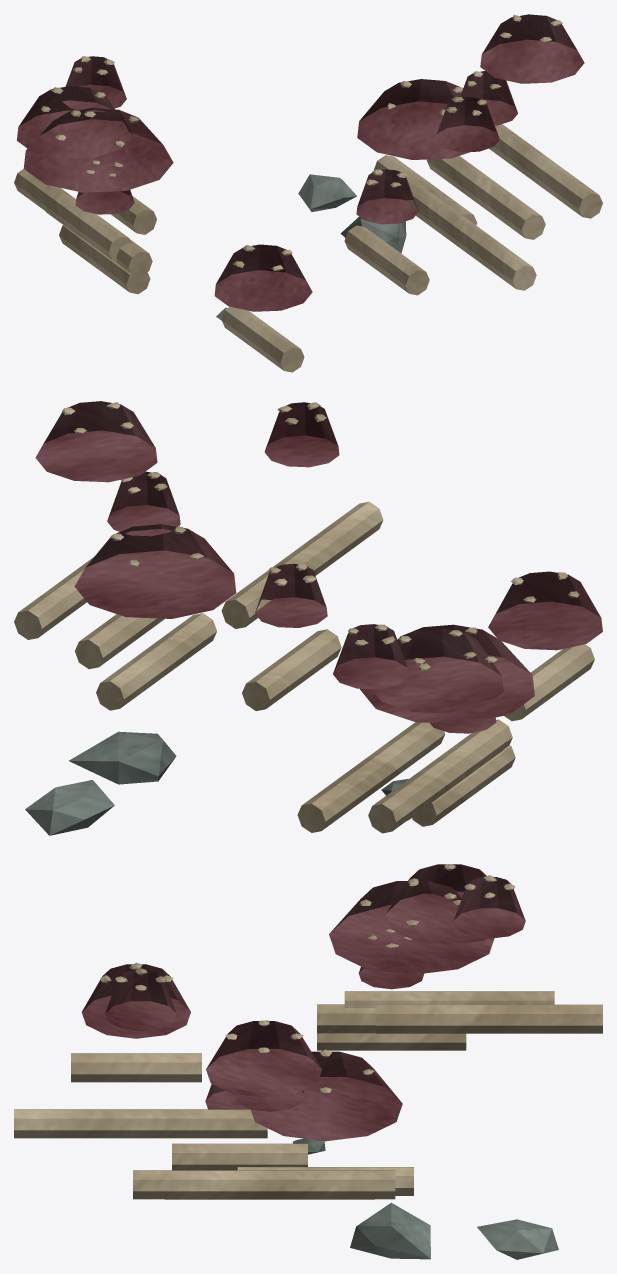
The model's file is 0214_mushroom_patch_14.glb.
3 renders of one model, top to bottom at view 1: azimuth 30°, elevation 25°; view 2: azimuth 150°, elevation 25°; view 3: azimuth 270°, elevation 25°, orthographic. The views are drawn at different scales.
Visible parts, largest first — view 1: cloth, bone, stone; view 2: cloth, bone, stone; view 3: bone, cloth, stone.
Boxes of the visible parts, x1,y1,x2,y2 form: cloth: (17,14,584,311); bone: (14,15,602,372); stone: (216,174,406,320); cloth: (35,401,602,733); bone: (14,402,594,833); stone: (25,731,408,835); bone: (14,864,602,1199); cloth: (81,864,525,1141); stone: (293,1138,558,1259).
Size of the model in its own units: 2.37 by 1.16 by 2.29.
3 materials, 3 textured.
